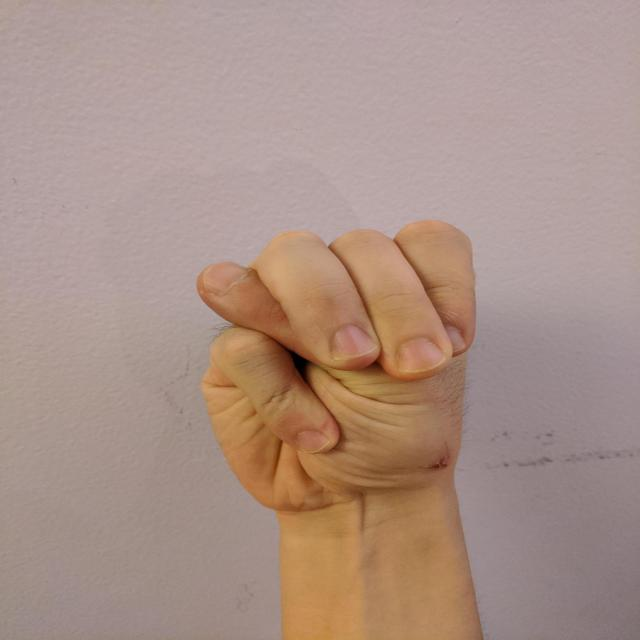M: (187, 212, 491, 513)
